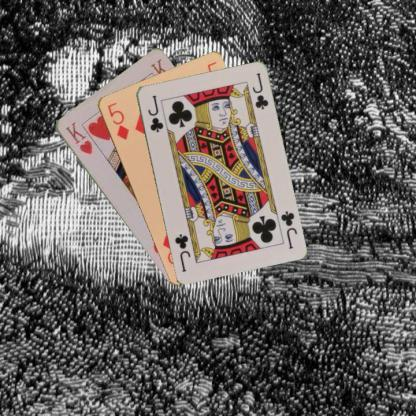5d: (105, 99, 130, 141)
Jc: (145, 92, 165, 134), (278, 208, 298, 250)
Kh: (62, 118, 94, 156)
